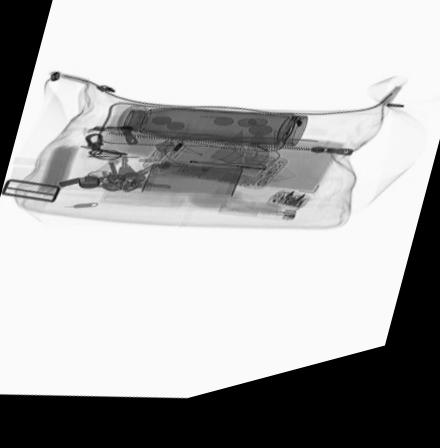Lighter: (218, 214, 297, 235)
